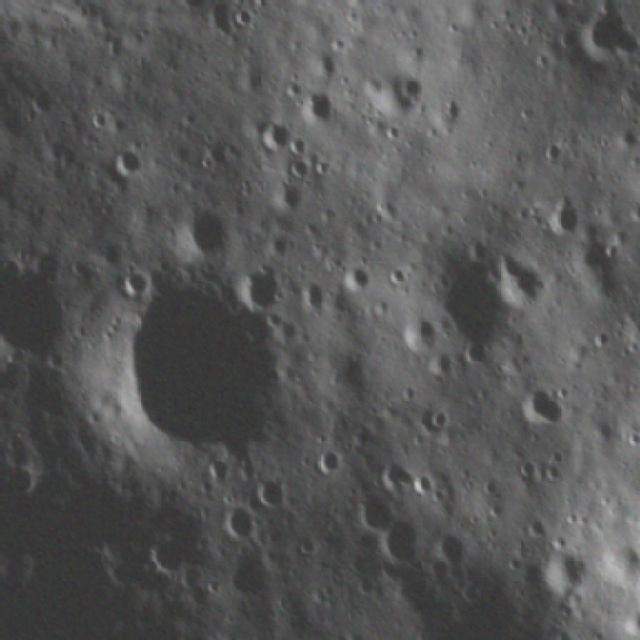crater: (106, 272, 294, 453), (414, 245, 512, 358), (0, 242, 82, 364), (576, 221, 624, 313), (494, 244, 552, 311), (508, 377, 568, 437), (0, 426, 43, 509), (171, 202, 234, 258), (576, 3, 638, 59), (24, 80, 84, 131), (349, 484, 400, 536), (237, 262, 289, 312), (542, 178, 582, 242), (595, 537, 637, 595), (144, 534, 196, 580), (376, 520, 422, 568), (296, 84, 347, 127), (546, 538, 582, 596), (251, 111, 291, 158), (223, 550, 265, 592), (389, 65, 433, 103), (222, 492, 258, 538), (432, 523, 468, 568), (251, 475, 291, 513), (341, 260, 376, 300), (396, 315, 432, 351), (115, 260, 152, 295), (271, 178, 306, 213), (111, 138, 143, 176), (506, 451, 542, 482), (200, 454, 237, 480), (300, 278, 328, 312), (228, 5, 262, 32), (546, 449, 568, 485)
